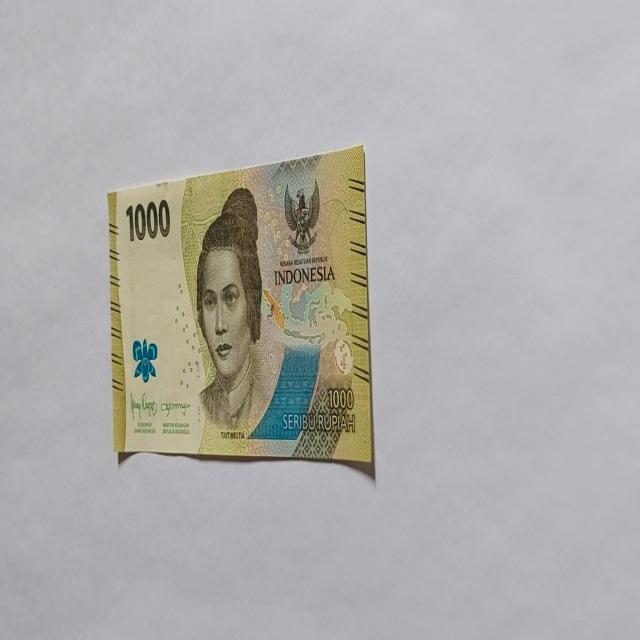seribu rupiah kertas: (107, 143, 375, 477)
